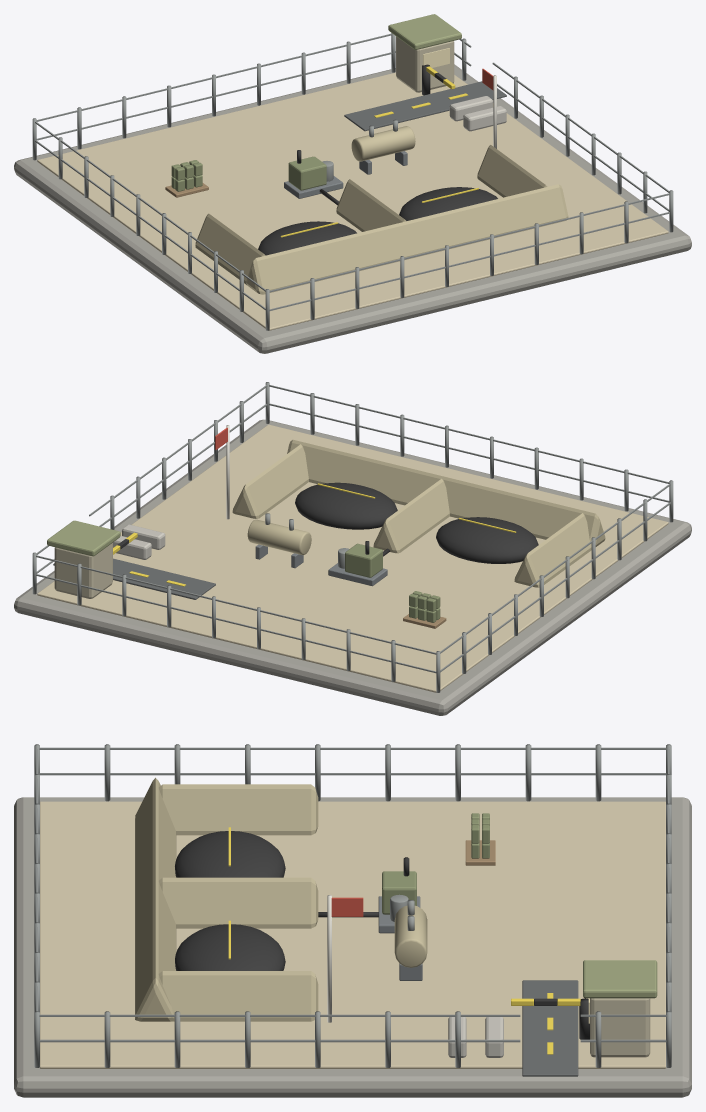
The model's file is fueldepot_3.glb.
3 views of the same model, one above another, from view 1: azimuth 30°, elevation 25°; view 2: azimuth 150°, elevation 25°; view 3: azimuth 270°, elevation 25° (orthographic). The views are drawn at different scales.
Visible parts, largest first — view 1: Cube.001, Cube, prism, prism.003, Cube.002, prism.001, prism.005, prism.002, Cube.006, Sphere, Sphere.001, Cube.007 (+11 smaller); view 2: Cube.001, Cube, prism, prism.003, Sphere.001, Sphere, prism.005, prism.002, prism.001, Cube.006, Cube.002, Cube.007 (+11 smaller); view 3: Cube.001, Cube, prism.002, prism.001, prism.005, Cube.002, prism.003, Sphere, Sphere.001, prism, Cube.006, Cube.007 (+9 smaller).
Boxes of the visible parts, x1=… form: Cube.001: x1=37, y1=72, x2=668, y2=330; Cube: x1=14, y1=64, x2=691, y2=353; prism: x1=246, y1=219, x2=425, y2=294; prism.003: x1=397, y1=184, x2=568, y2=259; Cube.002: x1=344, y1=81, x2=506, y2=131; prism.001: x1=195, y1=213, x2=265, y2=284; prism.005: x1=477, y1=145, x2=547, y2=197; prism.002: x1=336, y1=179, x2=406, y2=231; Cube.006: x1=396, y1=36, x2=454, y2=92; Sphere: x1=258, y1=221, x2=356, y2=255; Sphere.001: x1=399, y1=187, x2=497, y2=220; Cube.007: x1=388, y1=14, x2=461, y2=49; Cube.001: x1=37, y1=424, x2=668, y2=692; Cube: x1=14, y1=419, x2=691, y2=715; prism: x1=431, y1=474, x2=605, y2=546; prism.003: x1=287, y1=439, x2=452, y2=505; Sphere.001: x1=295, y1=482, x2=397, y2=529; Sphere: x1=436, y1=517, x2=538, y2=563; prism.005: x1=232, y1=444, x2=308, y2=518; prism.002: x1=373, y1=478, x2=449, y2=553; prism.001: x1=514, y1=513, x2=591, y2=587; Cube.006: x1=54, y1=543, x2=112, y2=598; Cube.002: x1=53, y1=558, x2=215, y2=599; Cube.007: x1=47, y1=520, x2=120, y2=556; Cube.001: x1=39, y1=801, x2=666, y2=1068; Cube: x1=14, y1=797, x2=691, y2=1097; prism.002: x1=158, y1=877, x2=318, y2=928; prism.001: x1=158, y1=784, x2=318, y2=835; prism.005: x1=158, y1=971, x2=318, y2=1021; Cube.002: x1=522, y1=980, x2=578, y2=1076; prism.003: x1=135, y1=872, x2=176, y2=1021; Sphere: x1=175, y1=831, x2=285, y2=877; Sphere.001: x1=175, y1=924, x2=285, y2=970; prism: x1=135, y1=777, x2=176, y2=921; Cube.006: x1=590, y1=998, x2=650, y2=1057; Cube.007: x1=583, y1=960, x2=657, y2=998.
Bounding box in the file's own units: 2.92 × 0.715 × 2.92.
